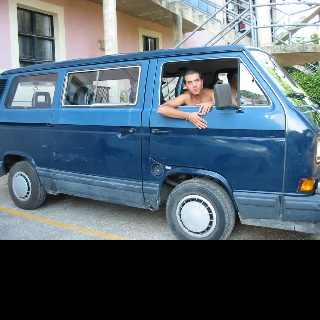without_mask: (156, 67, 216, 130), (226, 67, 268, 105), (185, 72, 202, 94), (231, 73, 239, 89)
